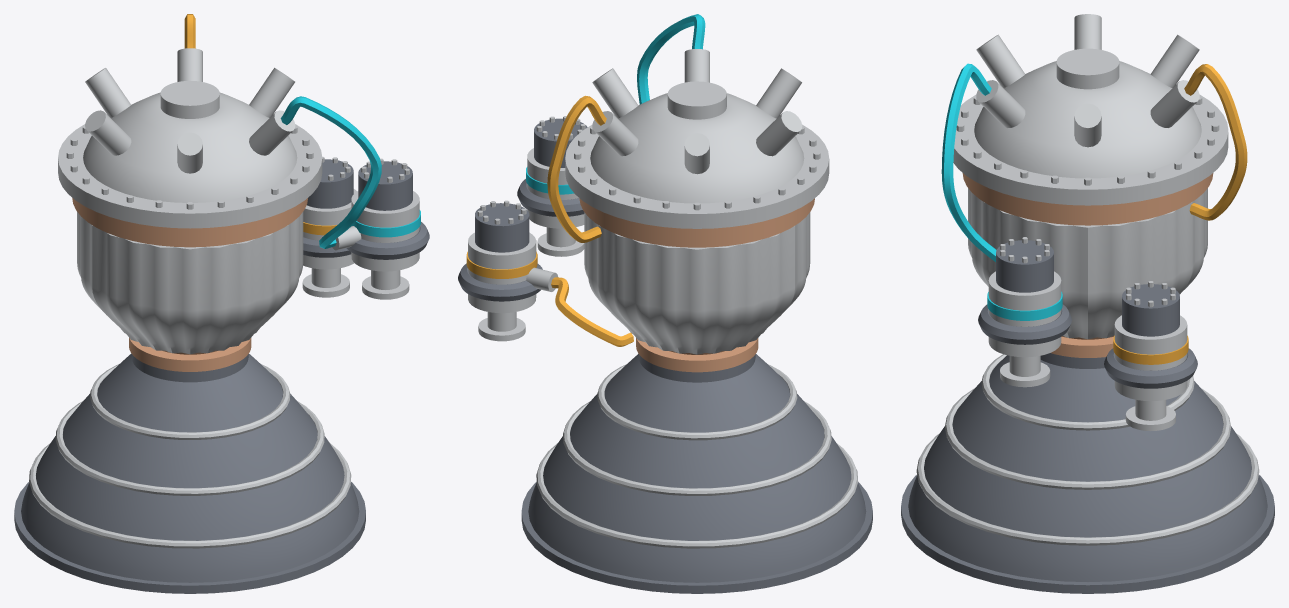
File: engine_ffsc_methalox.glb
3 renders of one model, left to right at view 1: azimuth 30°, elevation 25°; view 2: azimuth 150°, elevation 25°; view 3: azimuth 270°, elevation 25°, orthographic. The views are drawn at different scales.
Parts seen in each view (by area): view 1: nozzle, injector, cooling-jacket-b, lox-turbopump, chamber, fuel-turbopump, feed-lines, cooling-jacket-a; view 2: nozzle, injector, cooling-jacket-a, fuel-turbopump, chamber, feed-lines, lox-turbopump, cooling-jacket-b; view 3: nozzle, injector, cooling-jacket-a, lox-turbopump, fuel-turbopump, cooling-jacket-b, chamber, feed-lines.
Boxes of the visible parts, bbox=[...] form: nozzle: bbox=[14, 353, 365, 593]; injector: bbox=[58, 48, 322, 228]; cooling-jacket-b: bbox=[92, 212, 303, 354]; lox-turbopump: bbox=[332, 158, 429, 299]; chamber: bbox=[72, 198, 307, 371]; fuel-turbopump: bbox=[302, 156, 356, 297]; feed-lines: bbox=[184, 14, 381, 248]; cooling-jacket-a: bbox=[77, 212, 125, 333]; nozzle: bbox=[521, 354, 872, 593]; injector: bbox=[565, 49, 829, 228]; cooling-jacket-a: bbox=[584, 212, 794, 354]; fuel-turbopump: bbox=[458, 200, 557, 341]; chamber: bbox=[579, 198, 814, 372]; feed-lines: bbox=[547, 14, 705, 346]; lox-turbopump: bbox=[517, 116, 587, 256]; cooling-jacket-b: bbox=[762, 212, 810, 333]; nozzle: bbox=[901, 353, 1274, 593]; injector: bbox=[953, 14, 1228, 205]; cooling-jacket-a: bbox=[1088, 188, 1207, 339]; lox-turbopump: bbox=[978, 237, 1071, 387]; fuel-turbopump: bbox=[1104, 281, 1197, 430]; cooling-jacket-b: bbox=[968, 188, 1087, 339]; chamber: bbox=[962, 173, 1213, 357]; feed-lines: bbox=[941, 63, 1247, 261].
Size of the model in its own units: 0.903 by 1.09 by 0.772.
